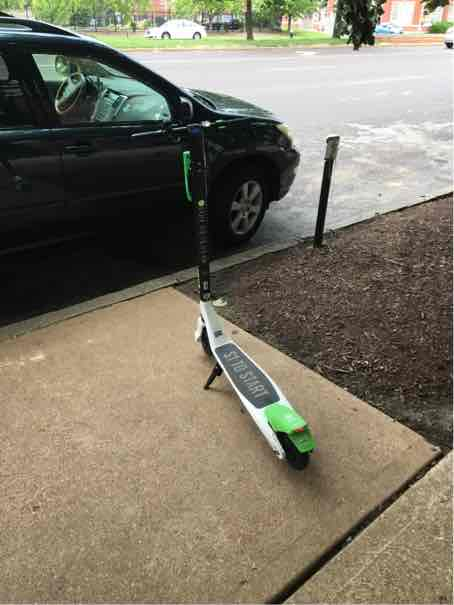scooter: (101, 129, 454, 325)
